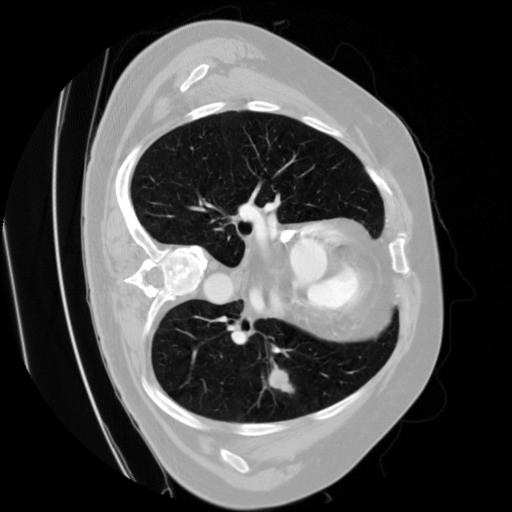nodule: (265, 363, 297, 395)
